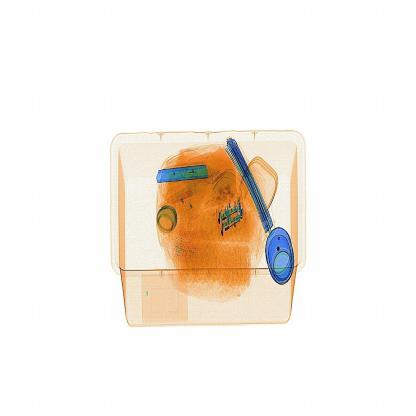pliers: (148, 150, 228, 200)
